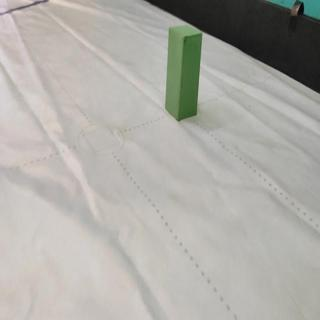greenbox: (164, 23, 205, 123)
